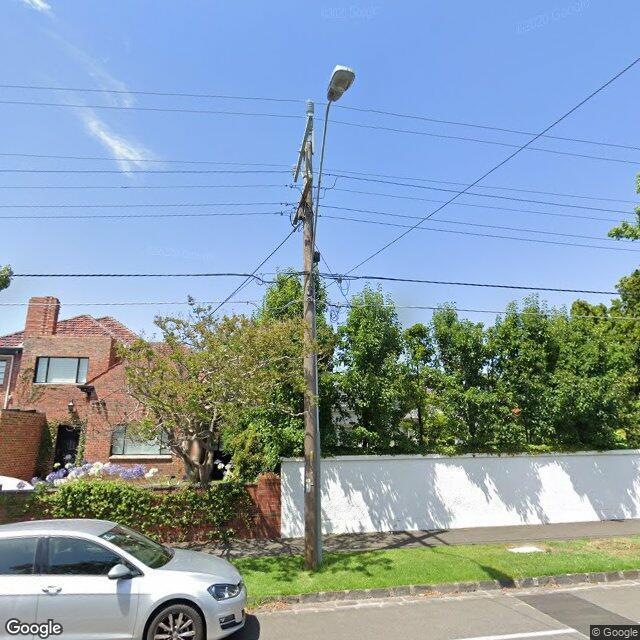HV-transmission: (291, 99, 314, 183)
crossarm: (272, 177, 316, 226), (293, 114, 314, 182)
streetlight: (310, 64, 356, 258)
timber-pole: (302, 119, 324, 570)
